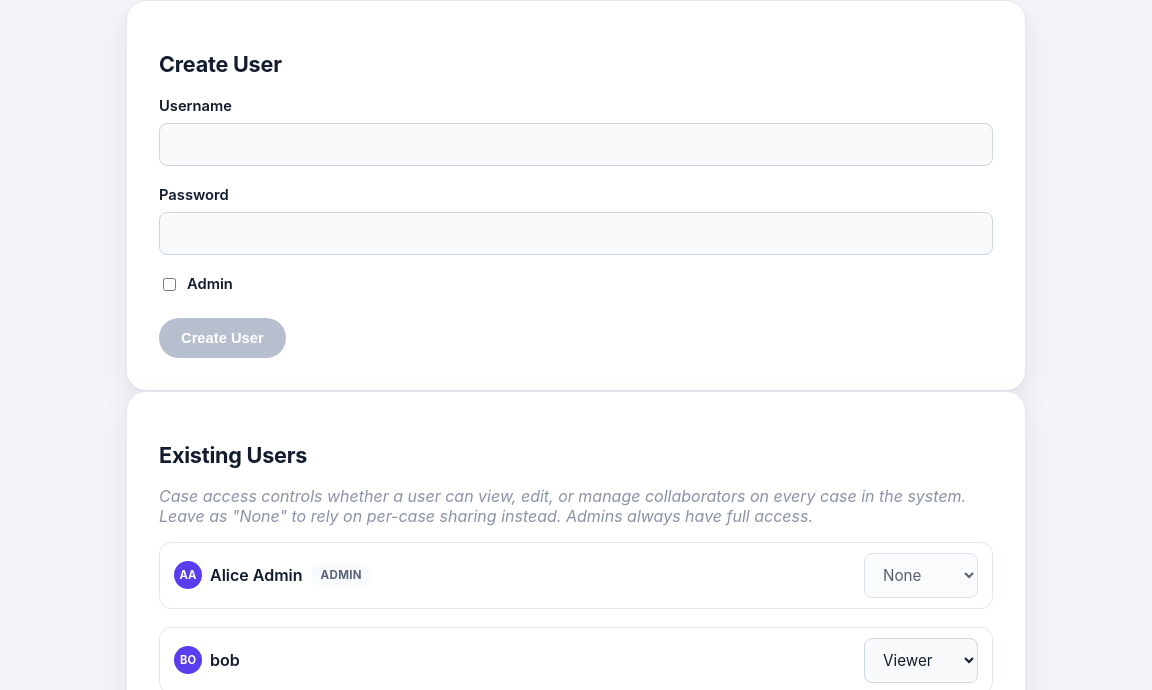
ManageUsers › creates a user with the entered fields and clears the form
The image size is (1152, 690).
Check: the text "bob" is shown, box left=210, top=650, right=240, bottom=670
Type "carol" into the field labelled "Username".
click(576, 144); type("carol")  # box left=159, top=123, right=993, bottom=166
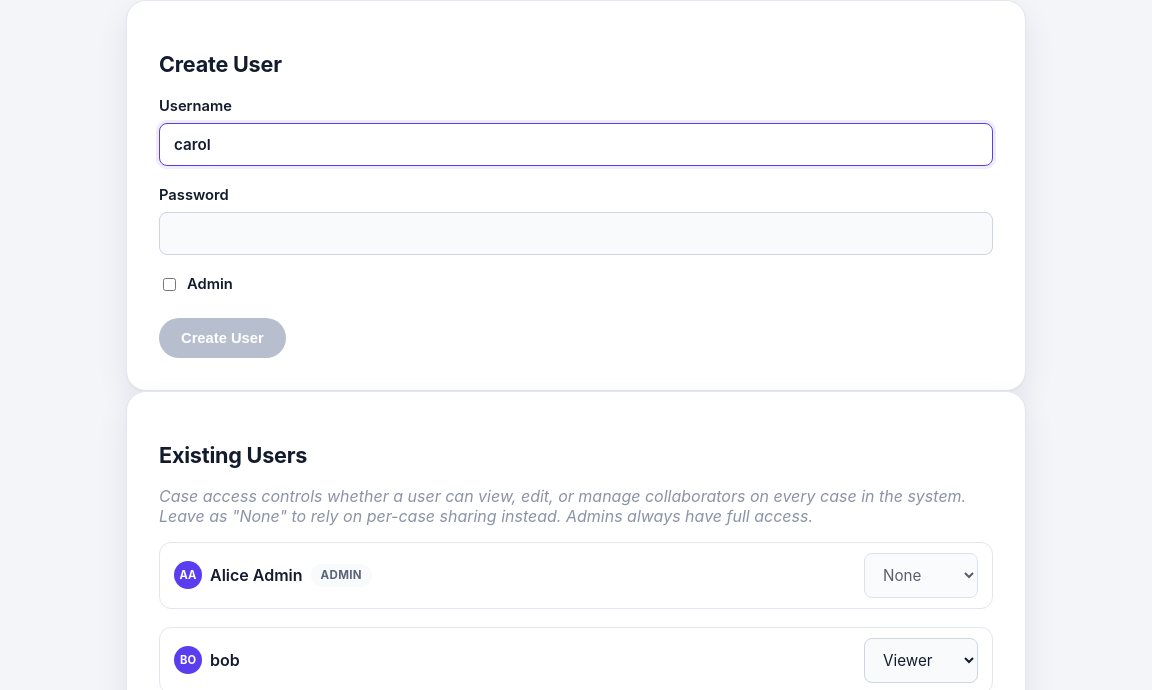
Type "carolpass1" into the password field labelled "Password".
click(576, 233); type("carolpass1")  # box left=159, top=212, right=993, bottom=255
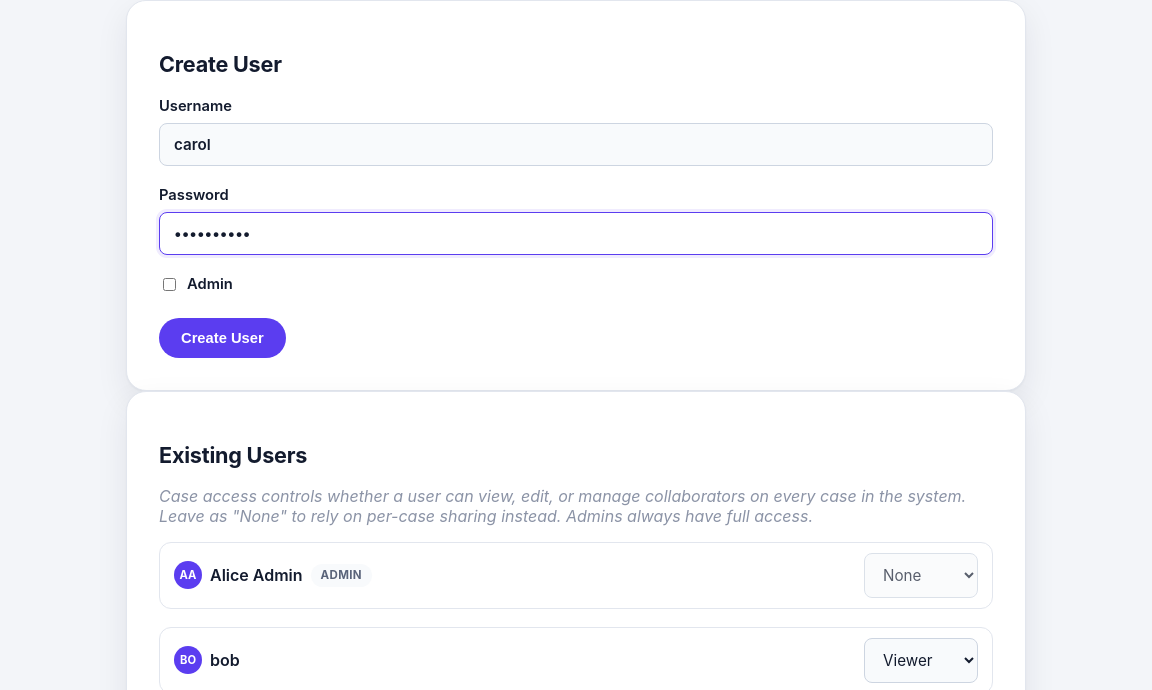
Click the checkbox labelled "Admin".
click(170, 284)  # box left=163, top=278, right=176, bottom=291
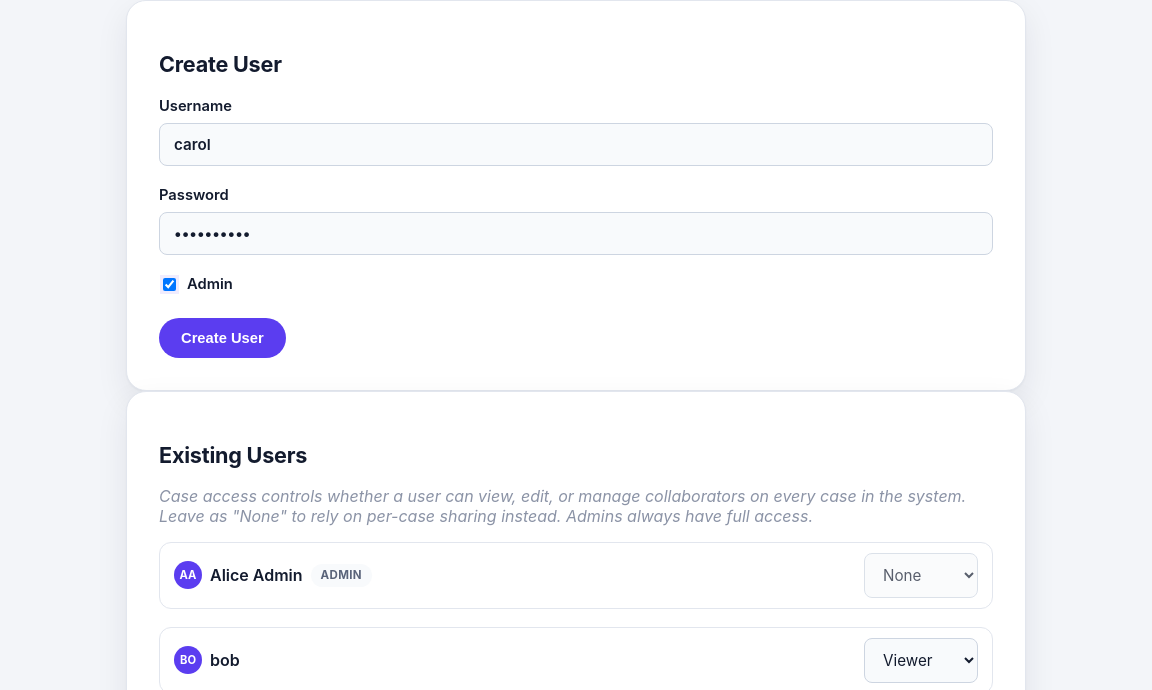
Click the button "Create User".
click(222, 338)  # box left=159, top=318, right=286, bottom=358
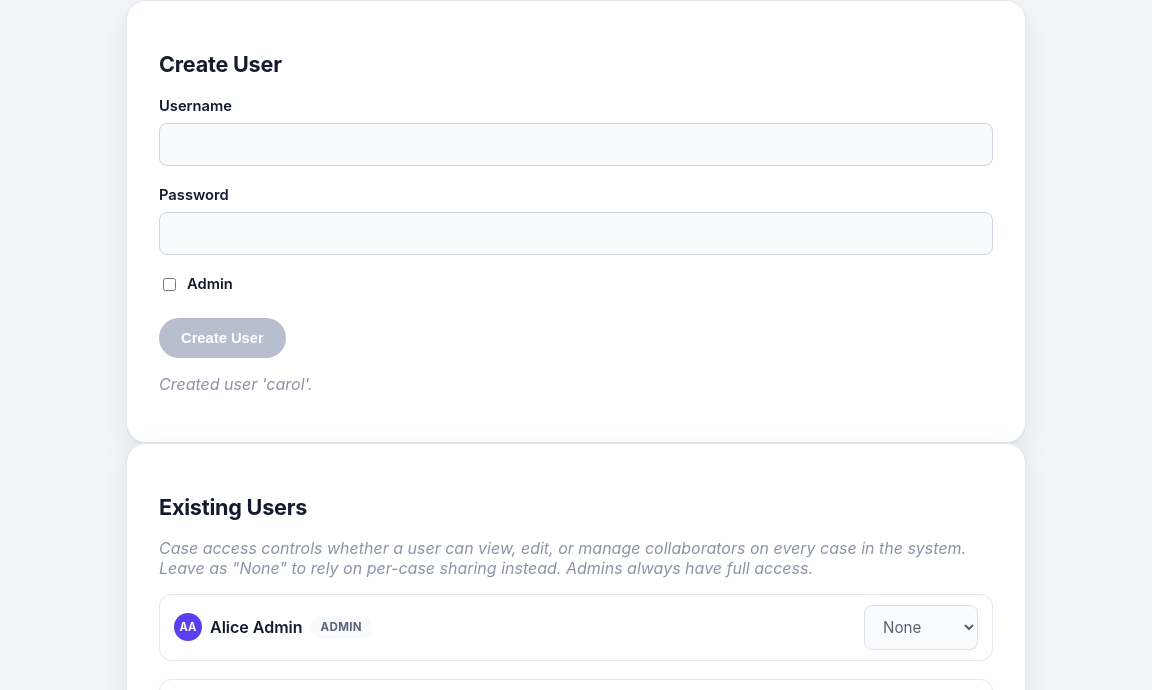
Check: the text "Created user 'carol'." is shown, box left=159, top=374, right=313, bottom=394
Check: the field labelled "Username" is empty, box left=159, top=123, right=993, bottom=166
